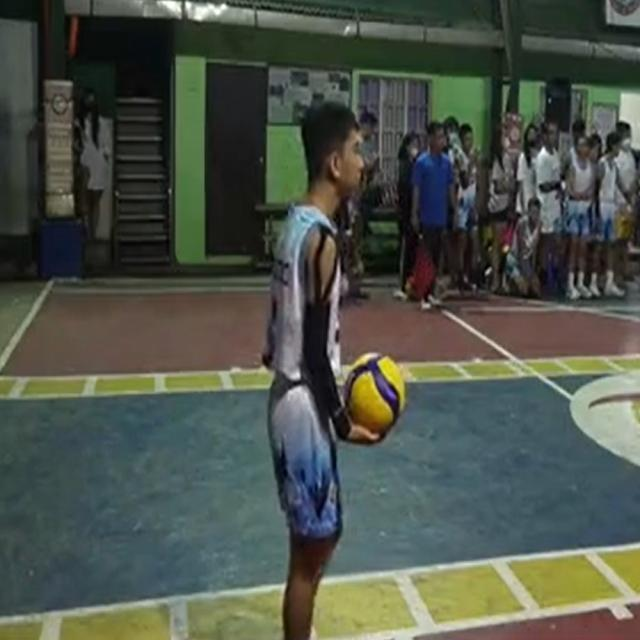volleyball: (344, 351, 406, 434)
